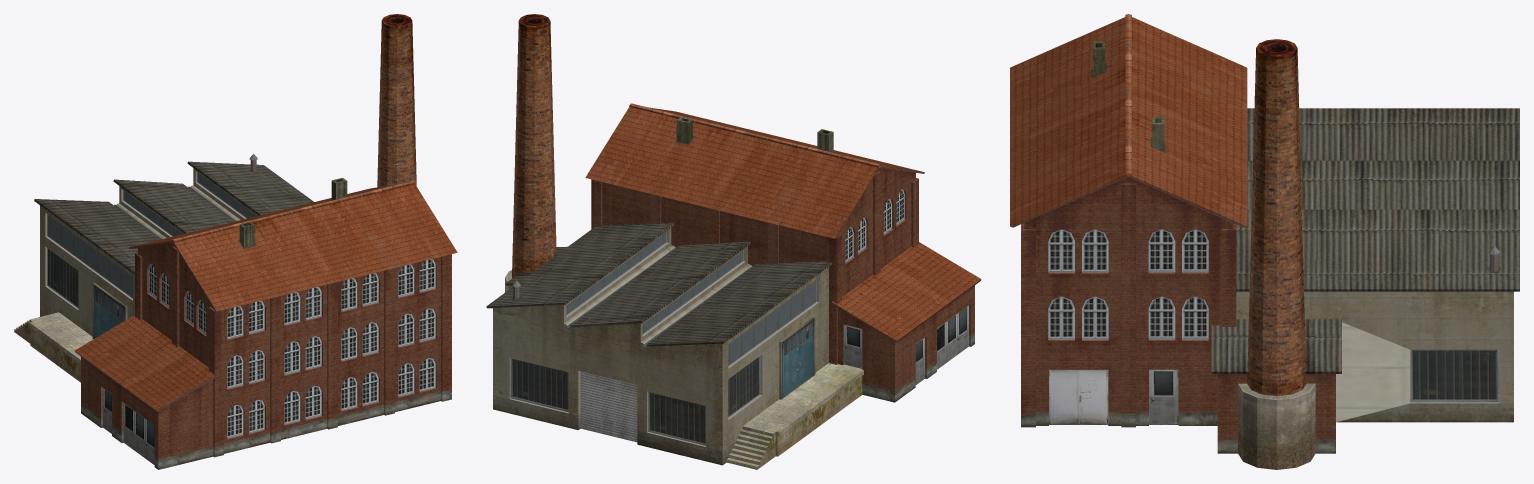
File: factory1.obj
3 views of the same model, side by side, from view 1: azimuth 30°, elevation 25°; view 2: azimuth 150°, elevation 25°; view 3: azimuth 270°, elevation 25° (orthographic). The views are drawn at different scales.
Visible parts, largest first — view 1: factory1; view 2: factory1; view 3: factory1.
Boxes of the visible parts, bbox=[...] form: factory1: bbox=[14, 14, 457, 469]; factory1: bbox=[486, 14, 981, 469]; factory1: bbox=[1010, 14, 1519, 469].
Size of the model in its own units: 9.32 by 7.4 by 8.42.
1 material, 1 textured.
